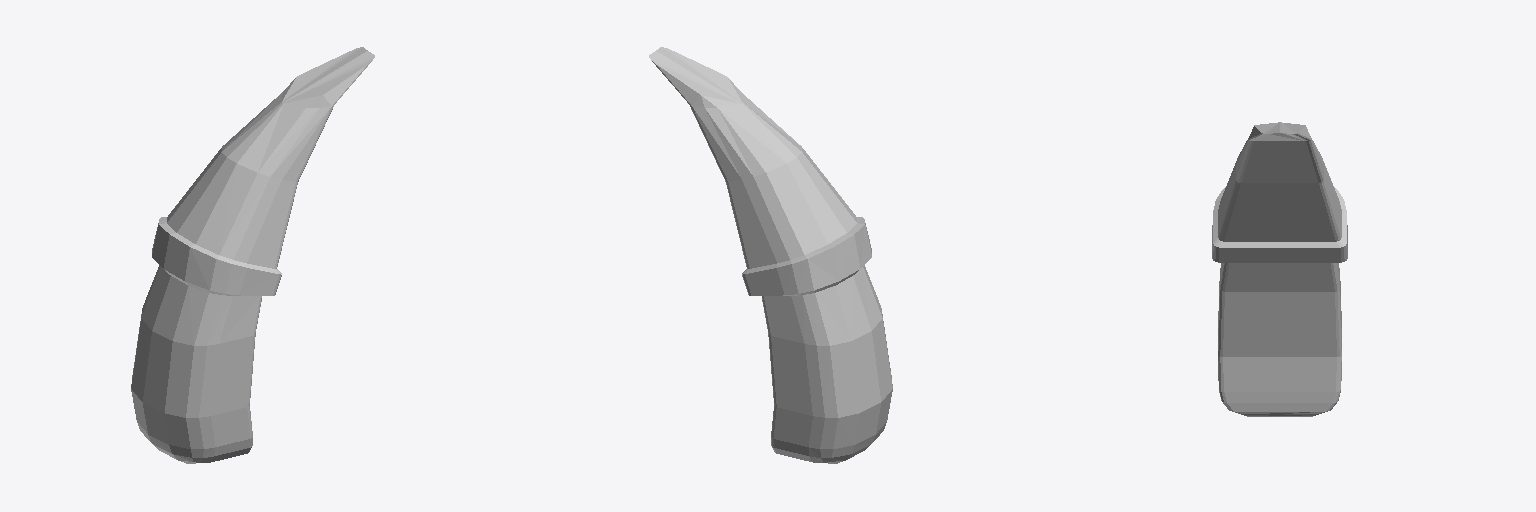
The model's file is character_tavernkeeperArmRight.obj.
3 views of the same model, side by side, from view 1: azimuth 30°, elevation 25°; view 2: azimuth 150°, elevation 25°; view 3: azimuth 270°, elevation 25° (orthographic).
Parts seen in each view (by area): view 1: character_tavernkeeperArmRight_Cube.6078; view 2: character_tavernkeeperArmRight_Cube.6078; view 3: character_tavernkeeperArmRight_Cube.6078.
Part boxes in pixels (left/top/right/bottom): character_tavernkeeperArmRight_Cube.6078: left=131, top=47, right=374, bottom=463; character_tavernkeeperArmRight_Cube.6078: left=649, top=47, right=892, bottom=463; character_tavernkeeperArmRight_Cube.6078: left=1212, top=122, right=1347, bottom=416.
Bounding box in the file's own units: 0.3802 × 0.5708 × 0.1971.